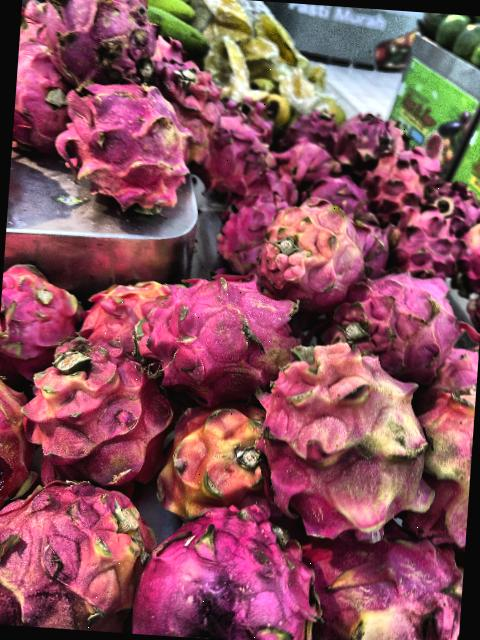buah-naga-belum-matang: (253, 332, 428, 529), (0, 473, 146, 633), (297, 523, 465, 640), (158, 395, 280, 523), (252, 200, 354, 298), (420, 380, 476, 548), (91, 274, 173, 331), (457, 215, 480, 282)
buah-naga-matang: (14, 329, 180, 487), (138, 494, 315, 640), (129, 282, 290, 392), (58, 79, 192, 206), (338, 274, 455, 368), (20, 0, 139, 73), (148, 46, 219, 151), (200, 122, 274, 193), (216, 196, 290, 266), (392, 210, 460, 280), (358, 154, 419, 224), (422, 176, 480, 226), (329, 110, 394, 154), (312, 171, 360, 212), (280, 134, 324, 172)
